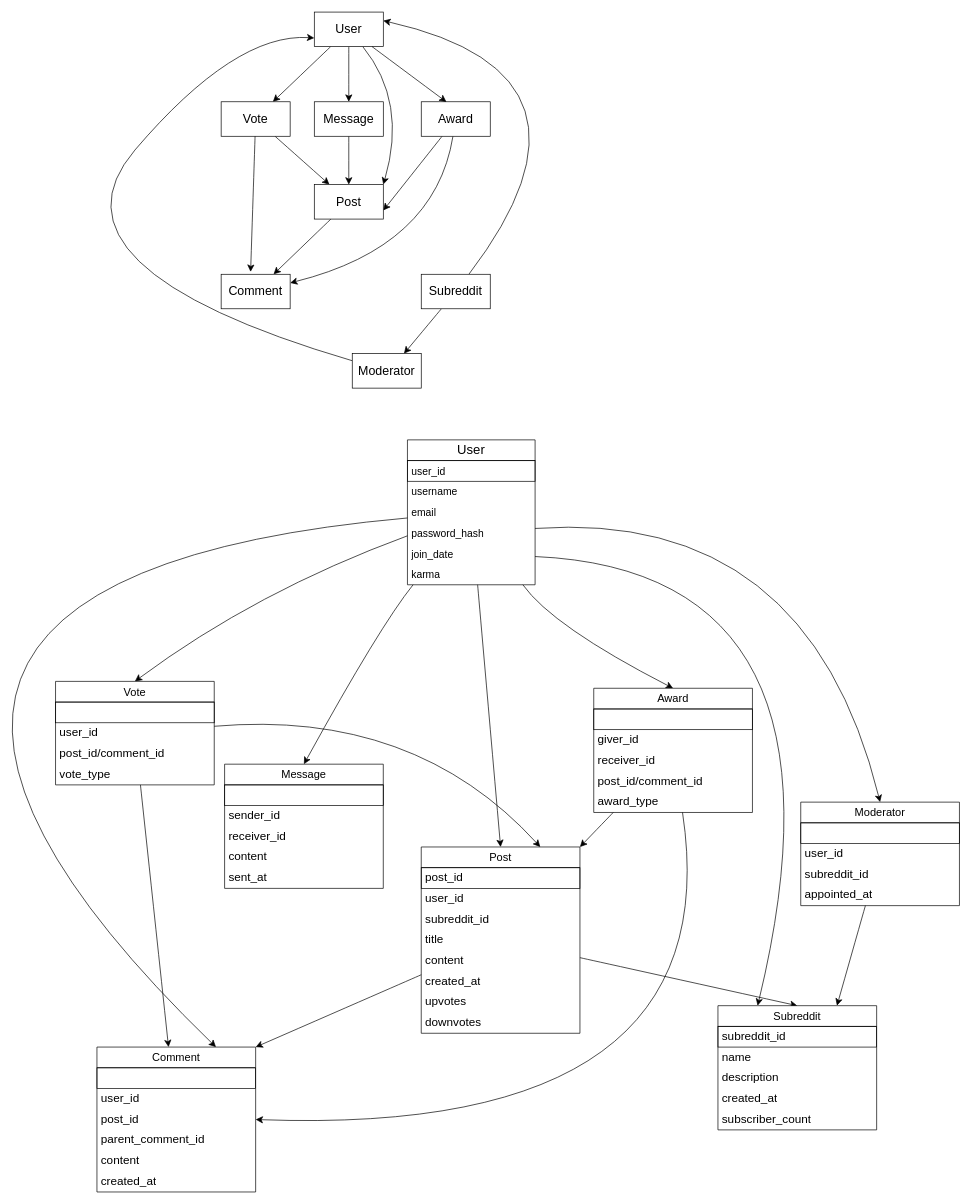
The diagram is 972 pixels wide and 1204 high, and some of its shapes have lost their labels. The shapes that lost their labels are listed below. From the top down, each one's box as (x1, y1, x2, y2) in pixels, then its label:
(55, 701, 214, 723): vote_id
(593, 708, 752, 730): award _id
(224, 784, 383, 806): message_id
(800, 822, 959, 844): moderator_id
(96, 1067, 256, 1088): comment_id
